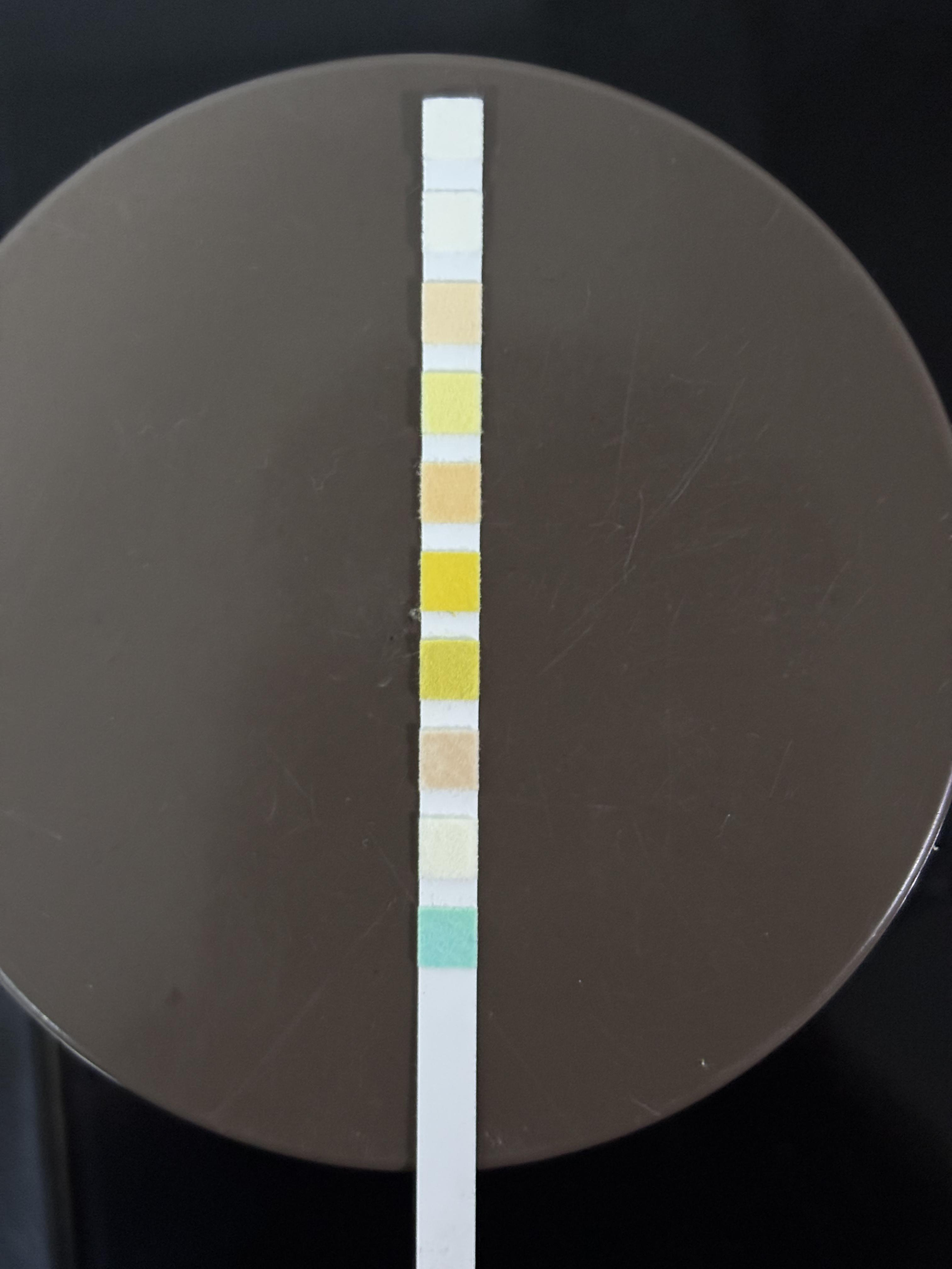Bilirubin: (422, 821, 475, 877)
Blood: (423, 554, 478, 610)
Glucose: (422, 910, 475, 966)
Ketone: (422, 732, 475, 788)
Leukocytes: (424, 103, 481, 159)
Nitrite: (422, 194, 481, 250)
Protein: (424, 376, 477, 431)
SpGravity: (423, 642, 476, 698)
Urobilinogen: (424, 285, 479, 341)
pH: (424, 465, 478, 521)
strip: (417, 99, 482, 1218)
